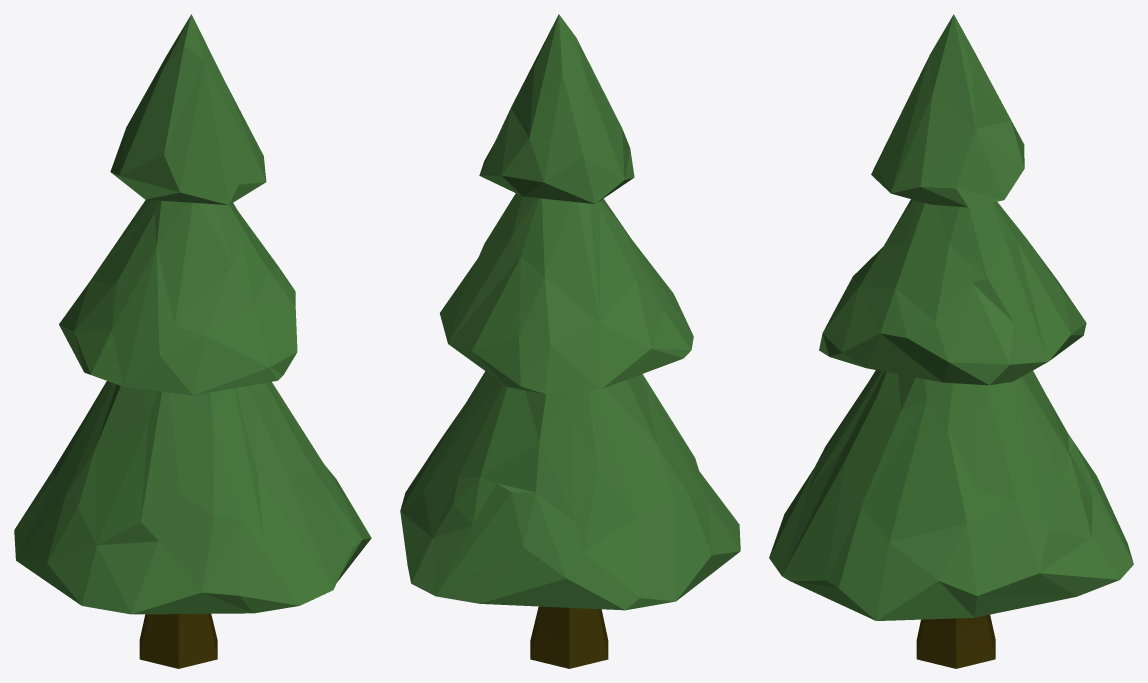
Rendered from treee 1.fbx.
3 renders of one model, left to right at view 1: azimuth 30°, elevation 25°; view 2: azimuth 150°, elevation 25°; view 3: azimuth 270°, elevation 25°, orthographic.
Parts seen in each view (by area): view 1: pCylinder1, pCylinder2; view 2: pCylinder1, pCylinder2; view 3: pCylinder1, pCylinder2.
Part boxes in pixels (x1,y1,x2,y2): pCylinder1: [14, 14, 371, 614]; pCylinder2: [139, 613, 217, 668]; pCylinder1: [400, 14, 740, 610]; pCylinder2: [530, 606, 608, 668]; pCylinder1: [769, 14, 1133, 620]; pCylinder2: [916, 614, 995, 668].
Size of the model in its own units: 1.14 by 2.38 by 1.23.
